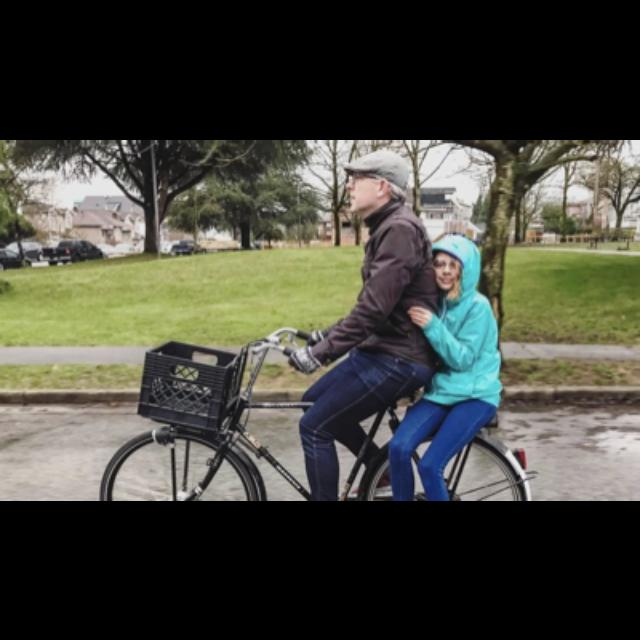Without Helmet: (344, 142, 414, 220)
